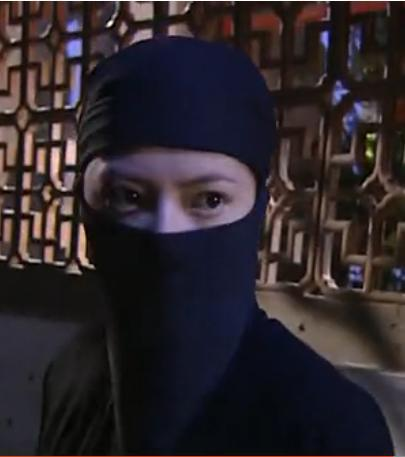OK: (95, 162, 245, 312)
